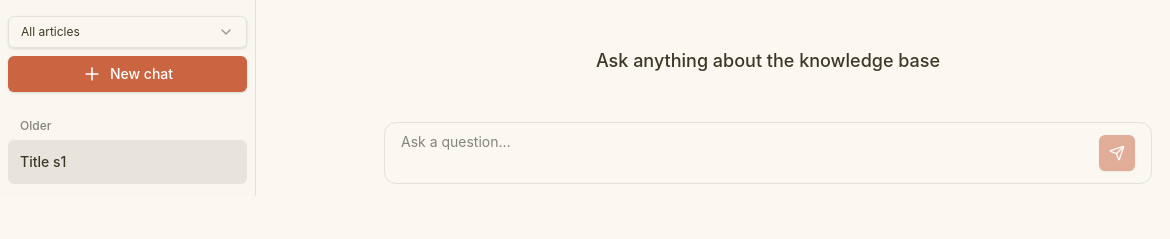
Test case: Chat page › stream events › starts generating once the assistant role arrives
Type "what is kaas" into the text box.
click(746, 153); type("what is kaas")  # box [401,131,1091,175]
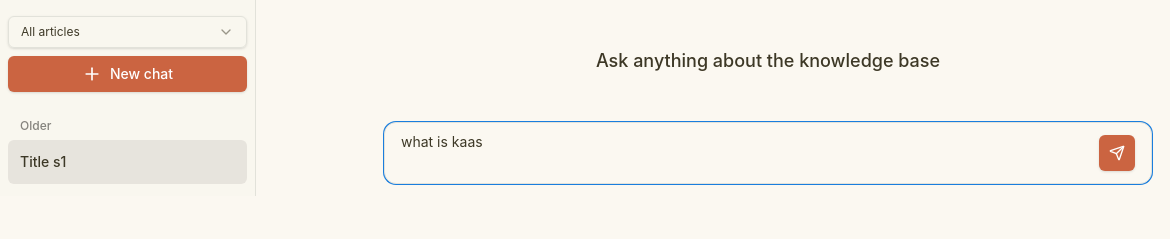
Press Enter
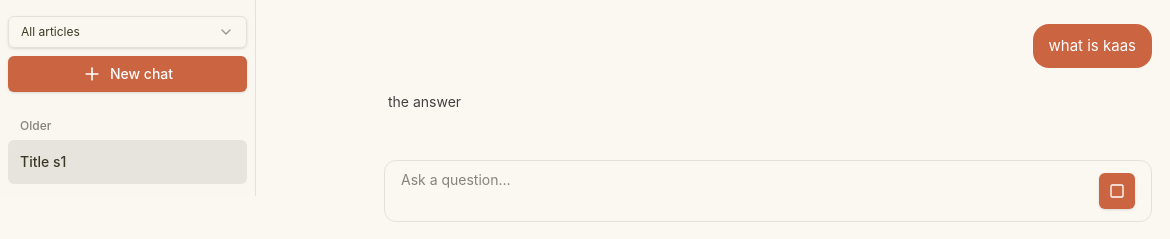
Expected: the text "the answer" is shown, [388,92,461,112]
